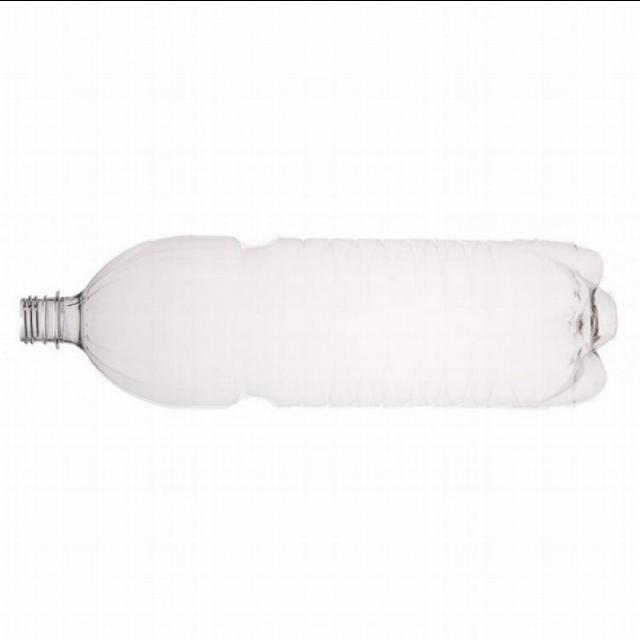bottom: (537, 228, 625, 424)
no_cap: (15, 276, 103, 361)
